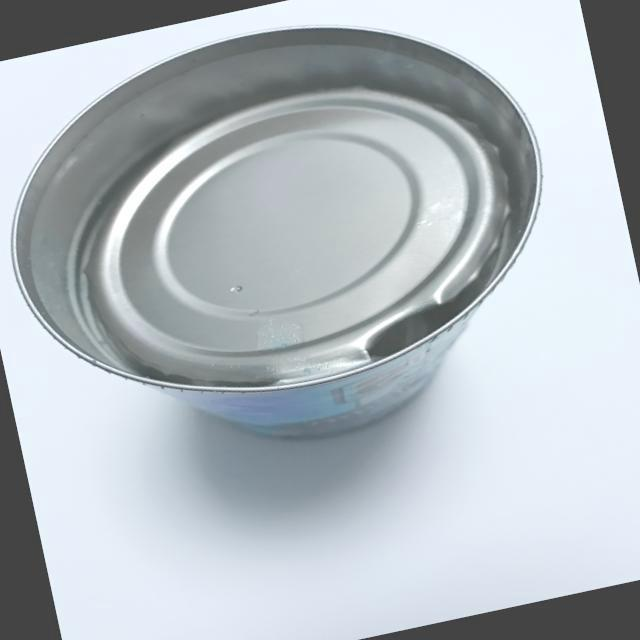metal: (0, 0, 607, 512)
